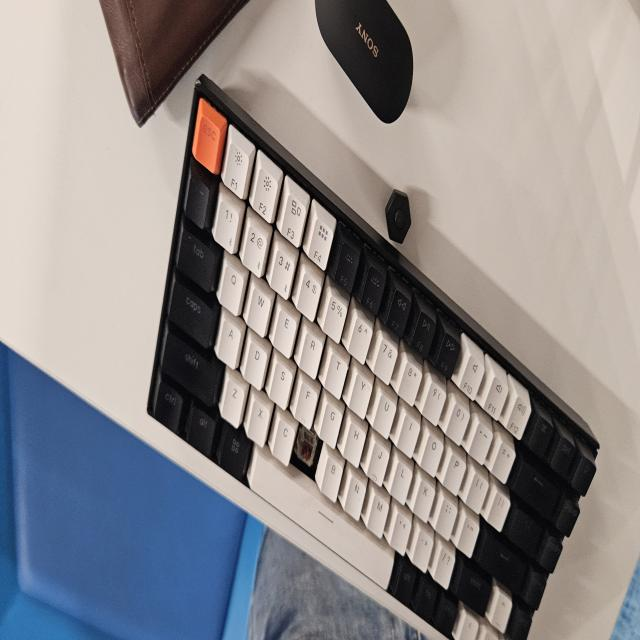C: (299, 430, 316, 482)
